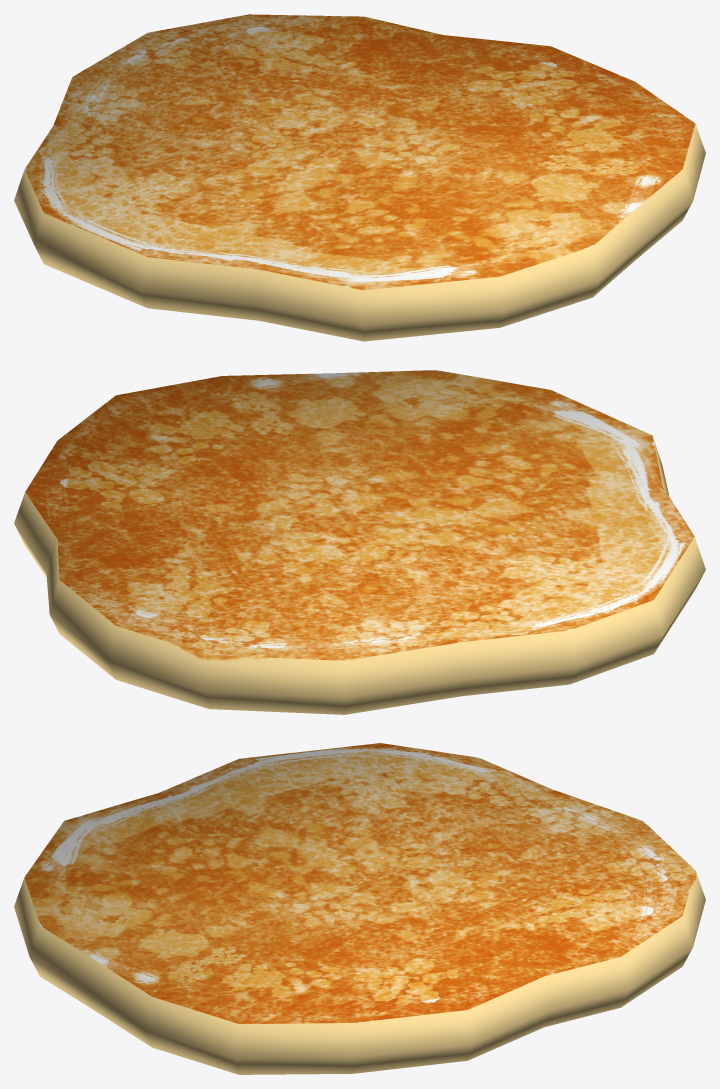
The model's file is pancake.fbx.
3 views of the same model, one above another, from view 1: azimuth 30°, elevation 25°; view 2: azimuth 150°, elevation 25°; view 3: azimuth 270°, elevation 25° (orthographic). The views are drawn at different scales.
Visible parts, largest first — view 1: Cylinder; view 2: Cylinder; view 3: Cylinder.
Part boxes in pixels (x1,y1,x2,y2): Cylinder: (14,14,705,341); Cylinder: (14,370,705,714); Cylinder: (14,743,705,1074).
Size of the model in its own units: 103 by 8.39 by 104.
